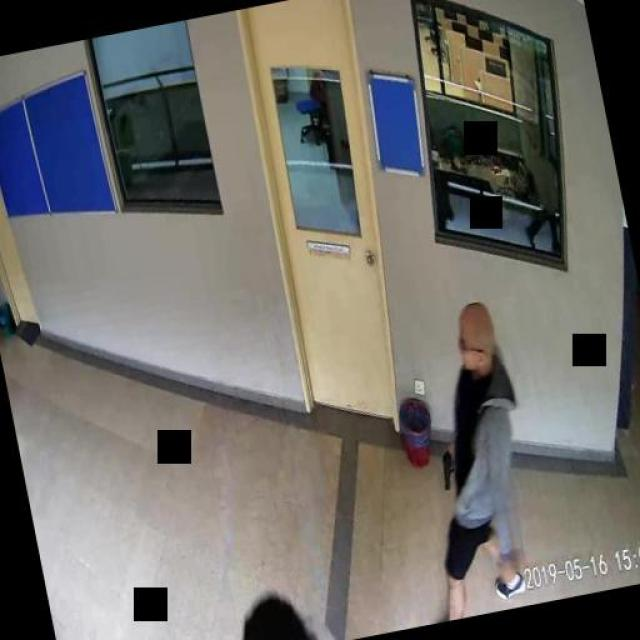gun: (436, 445, 459, 490)
